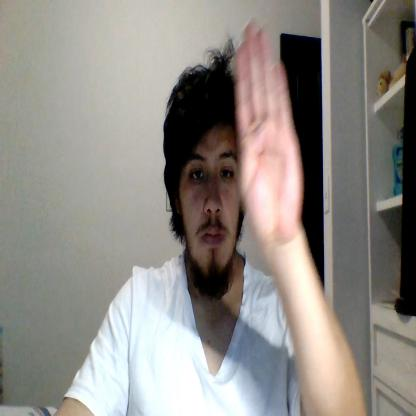B: (235, 19, 304, 244)
